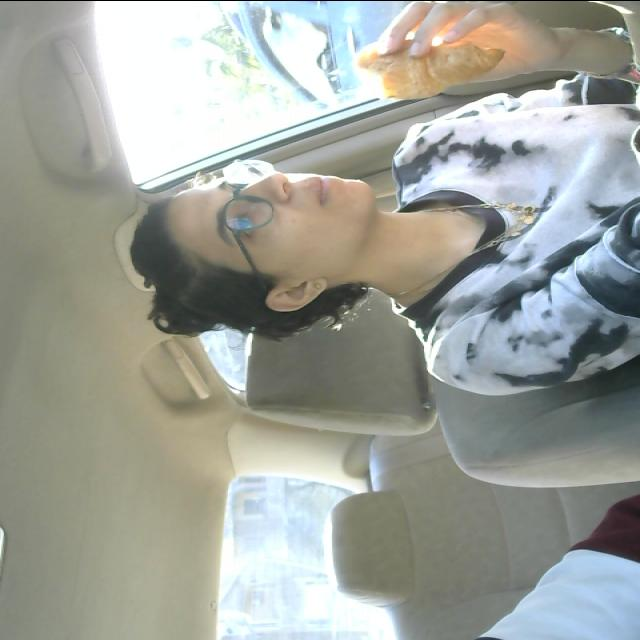eating: (352, 34, 504, 102)
